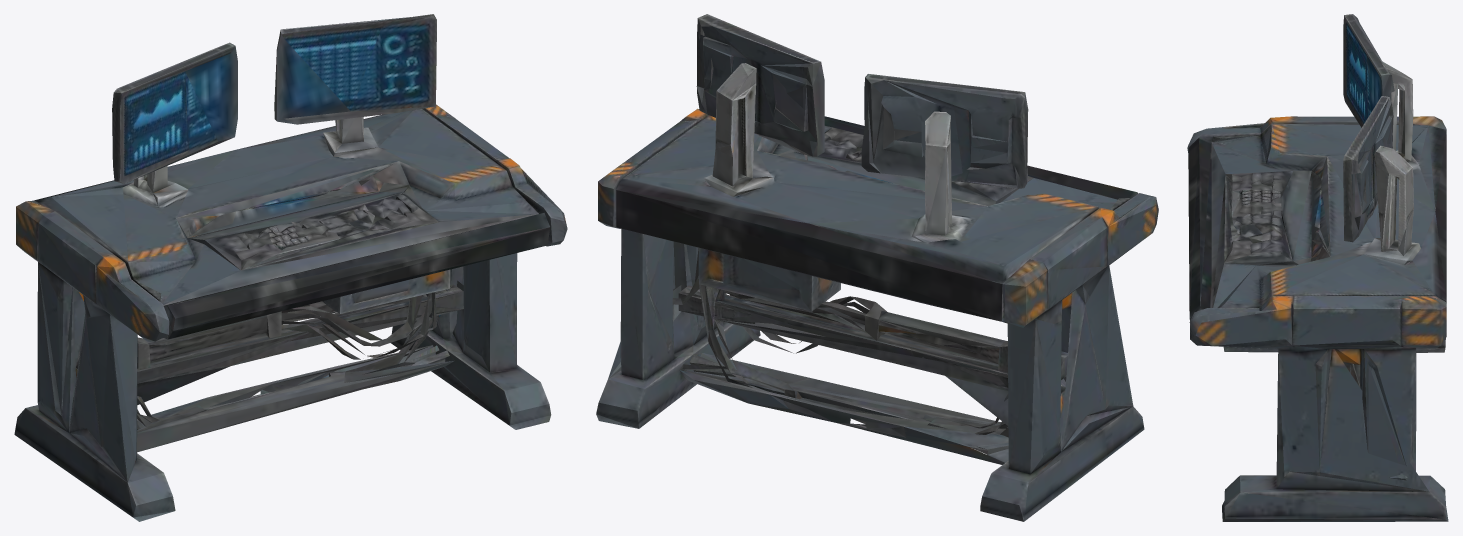
The model's file is console.glb.
The picture shows the model from 3 angles, left to right: view 1: azimuth 30°, elevation 25°; view 2: azimuth 150°, elevation 25°; view 3: azimuth 270°, elevation 25°; orthographic projection. The views are drawn at different scales.
Parts seen in each view (by area): view 1: Mesh_0; view 2: Mesh_0; view 3: Mesh_0.
Boxes of the visible parts, x1,y1,x2,y2 form: Mesh_0: (14, 14, 567, 521); Mesh_0: (596, 14, 1158, 521); Mesh_0: (1187, 14, 1448, 521).
Bounding box in the file's own units: 1.9 × 1.6 × 1.1.
1 material, 1 textured.
